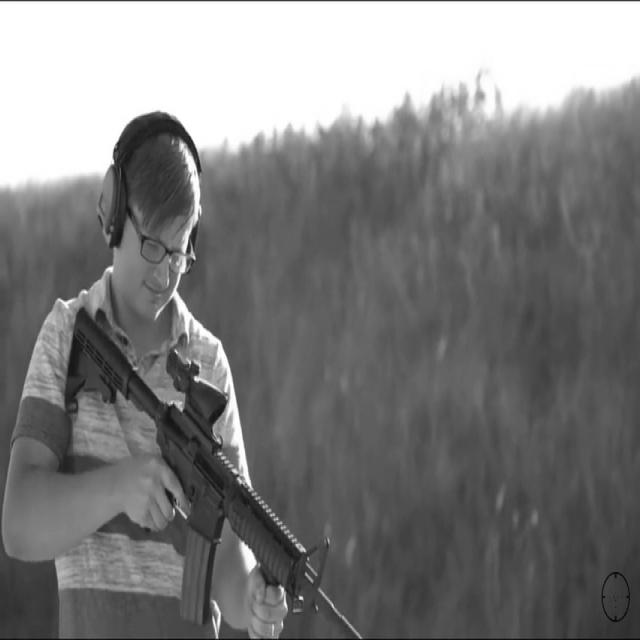Sniper: (46, 231, 410, 640)
